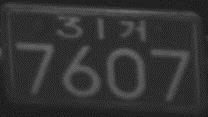0: (106, 46, 146, 100)
1: (90, 15, 111, 40)
3: (56, 14, 83, 39)
6: (60, 43, 101, 97)
7: (150, 46, 192, 102), (14, 40, 54, 94)
거: (117, 18, 146, 40)
